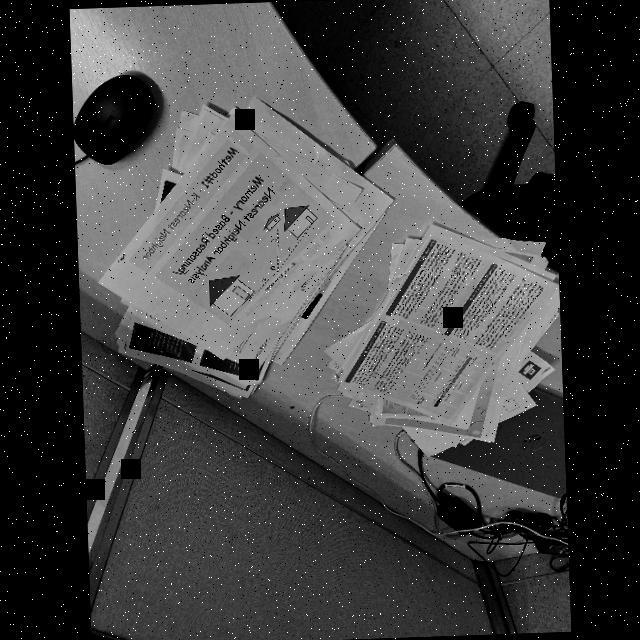reuseable_paper: (97, 95, 400, 406), (320, 223, 564, 467)
